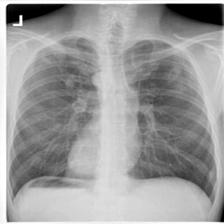tuberculosis: (6, 31, 222, 217)
